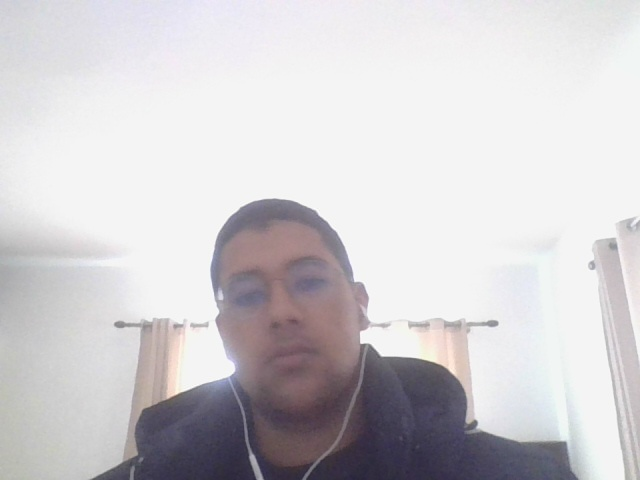real: (205, 179, 374, 418)
